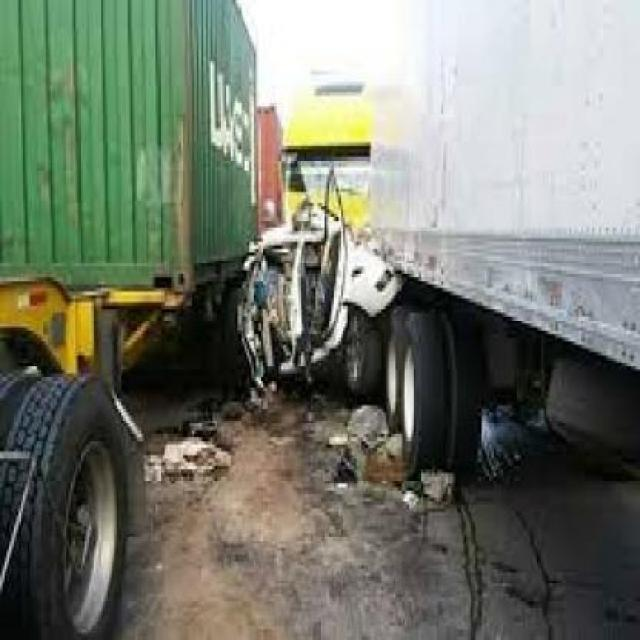accident: (192, 83, 434, 409)
